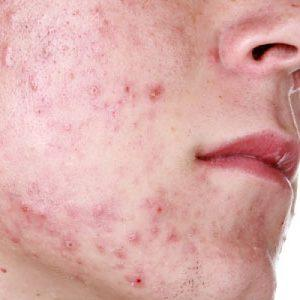Acne: (18, 19, 64, 63), (16, 186, 58, 229), (111, 74, 154, 114), (140, 76, 176, 110), (81, 76, 106, 118), (82, 196, 113, 229), (141, 195, 169, 228), (122, 273, 149, 296), (116, 222, 139, 245), (55, 231, 82, 247)
